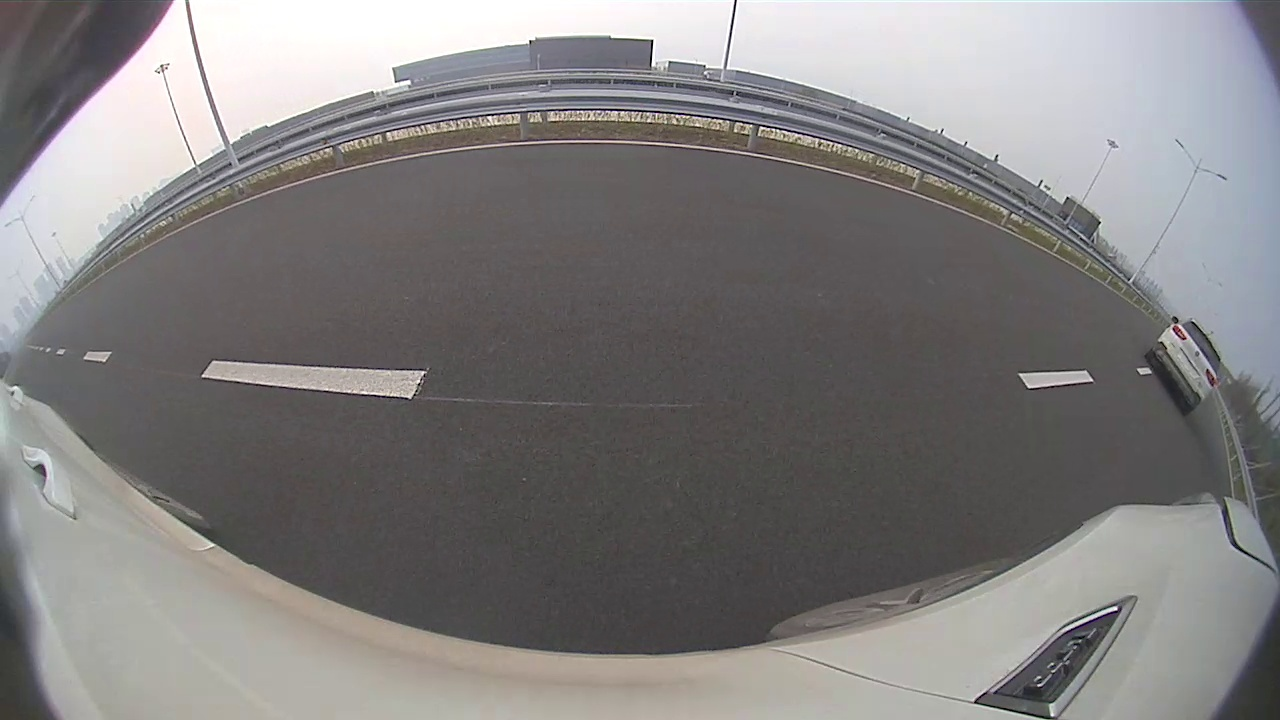car: (627, 119, 744, 218)
